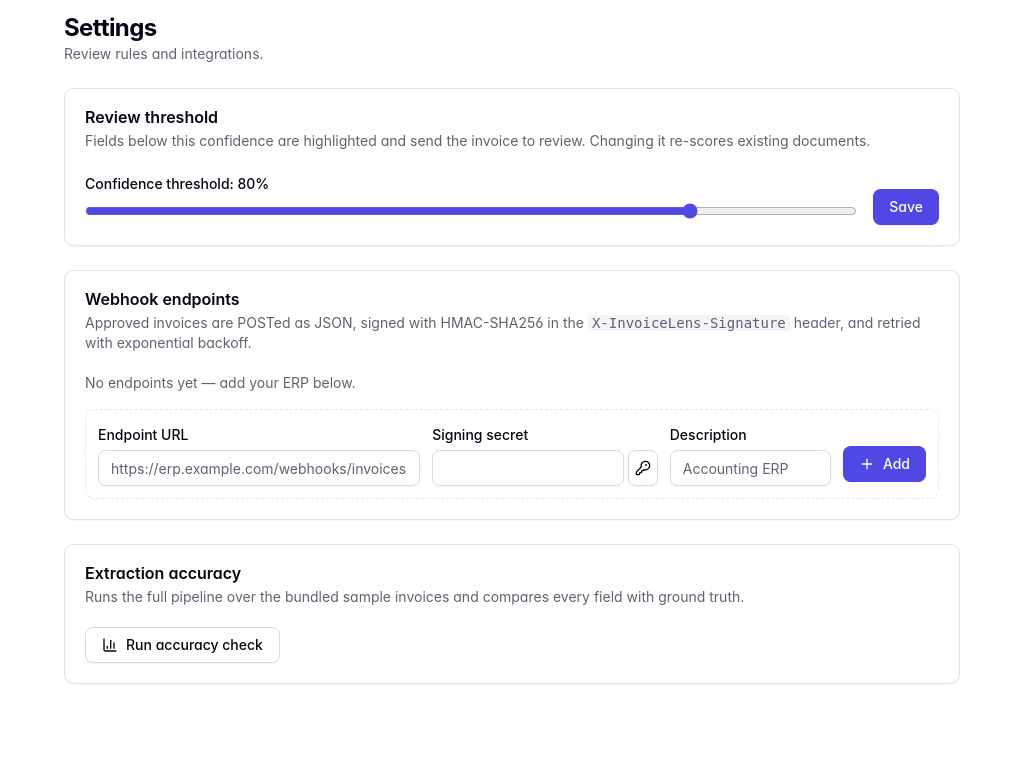
Test case: SettingsPage › saves the confidence threshold
expect the button "Save" is enabled: met, box [873,189,939,225]
Set the slider labelled "Confidence threshold: 80%" to "0.6". click: (531, 211)
box: [85,203,857,219]
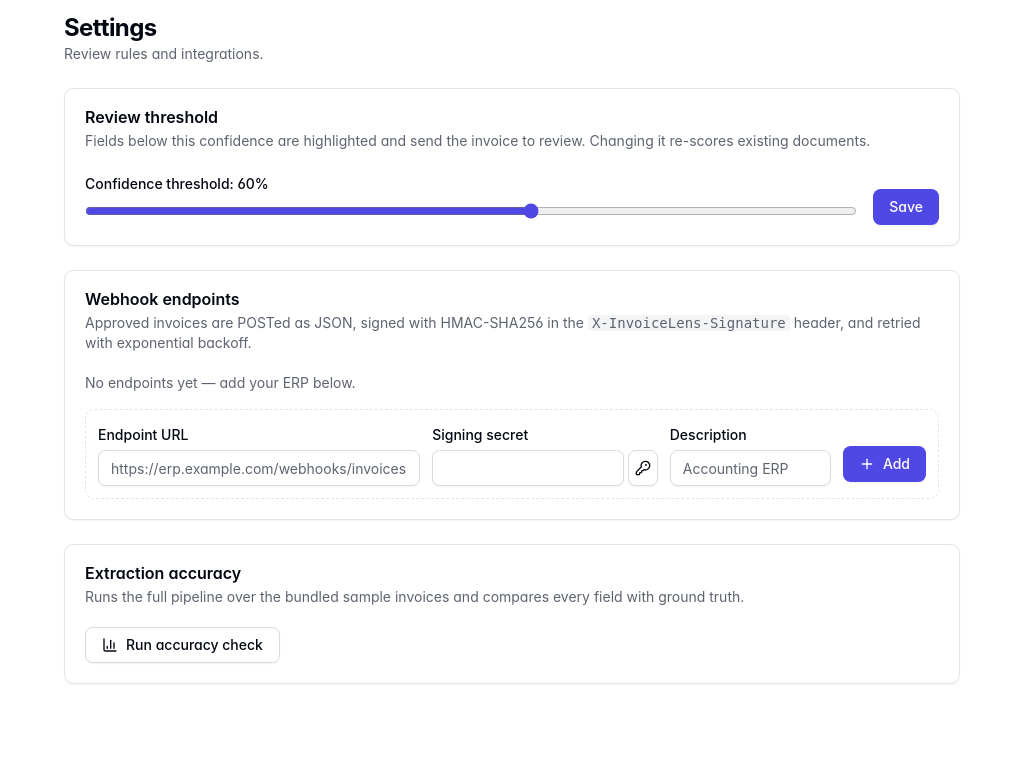
Click the button "Save". click: (906, 207)
box: [873,189,939,225]
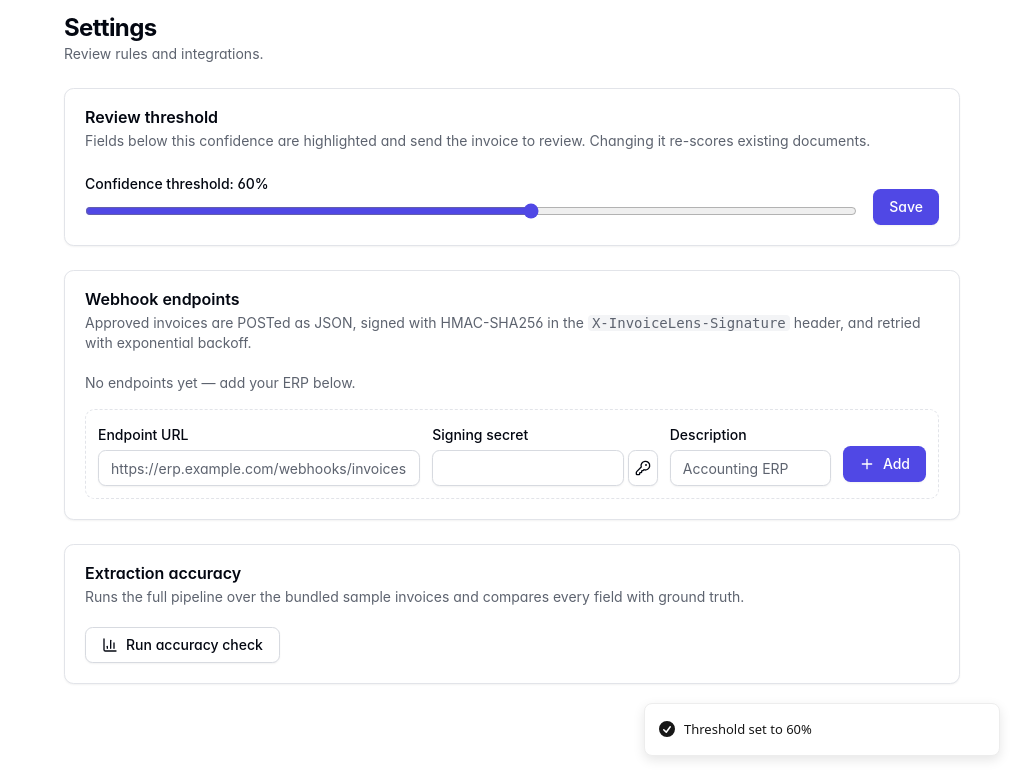
expect the text "Threshold set to 60%" is shown: met, box [684,720,812,739]
